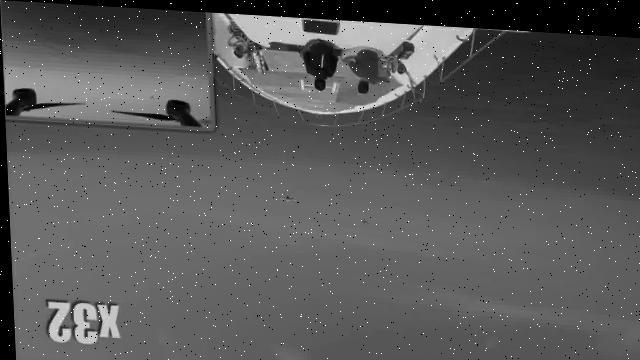drone: (273, 187, 300, 207)
